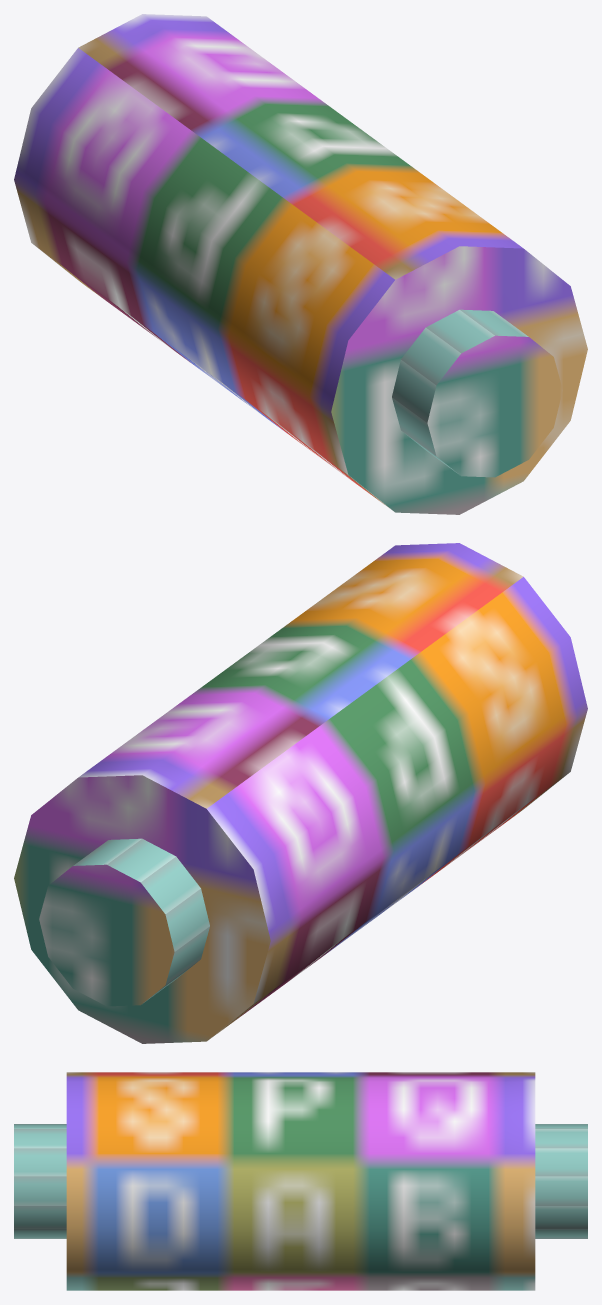
Rendered from EnergyCell.obj.
3 renders of one model, top to bottom at view 1: azimuth 30°, elevation 25°; view 2: azimuth 150°, elevation 25°; view 3: azimuth 270°, elevation 25°, orthographic. The views are drawn at different scales.
Parts seen in each view (by area): view 1: EnergyCell; view 2: EnergyCell; view 3: EnergyCell.
Part boxes in pixels (x1,y1,x2,y2): EnergyCell: (14, 14, 587, 514); EnergyCell: (14, 543, 587, 1043); EnergyCell: (14, 1072, 587, 1290).
Size of the model in its own units: 2.13 by 2.13 by 5.57.
